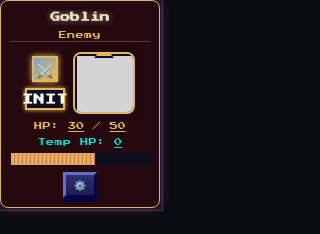
NpcCard › Name Editing › closes the editor after committing, so the card reads as a card again
Click the text "Goblin": (80, 17) [50,12,110,22]
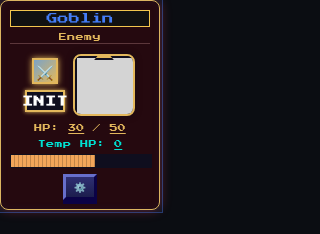
Replace the text in the field with "Renamed": (80, 19) [10,10,150,27]
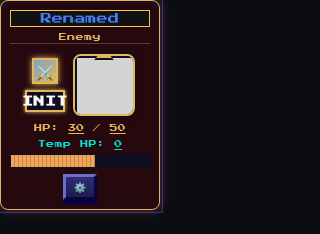
Press Enter in the field, box [10,10,150,27]
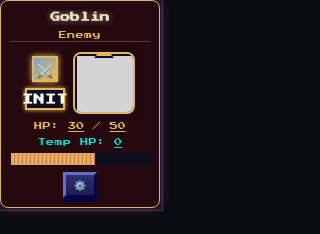
Result: the field is gone
